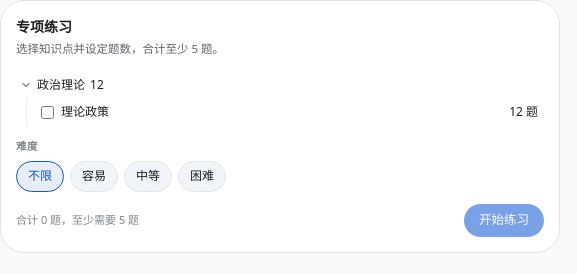
Test: SpecialPicker › adds a selected leaf and updates the estimated total
Expected: the text "合计 0 题，至少需要 5 题" is shown, [16,212,139,228]
Click the checkbox labelled "理论政策" at (48, 112), box [41,106,54,119]
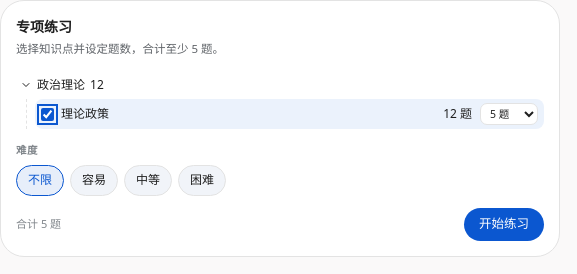
Expected: the checkbox labelled "理论政策" is checked, [41,108,54,121]
Expected: the text "合计 5 题" is shown, [16,216,61,232]
Expected: the dropdown named "理论政策 题数" shows "5 题", [480,103,538,125]
